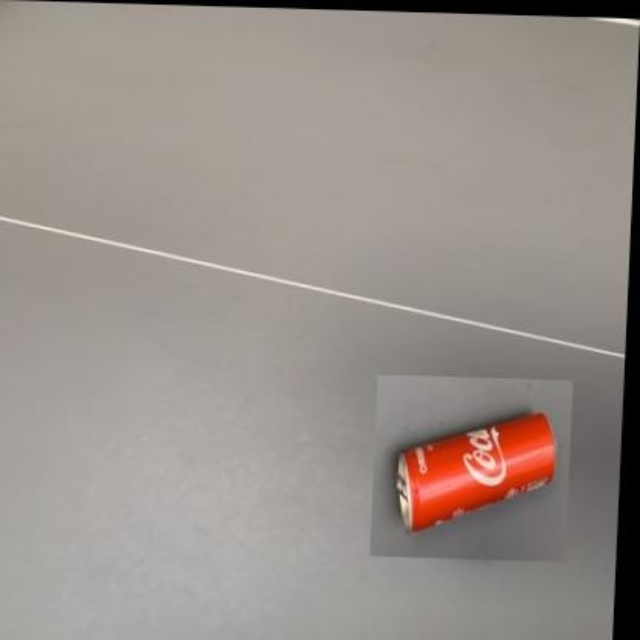trash: (395, 412, 552, 529)
